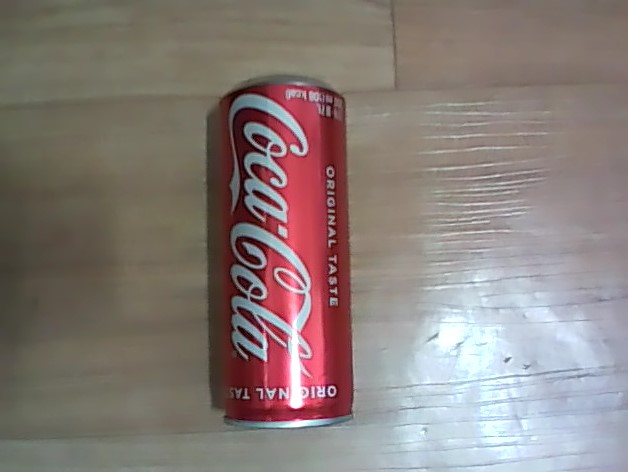Can: (198, 65, 365, 440)
